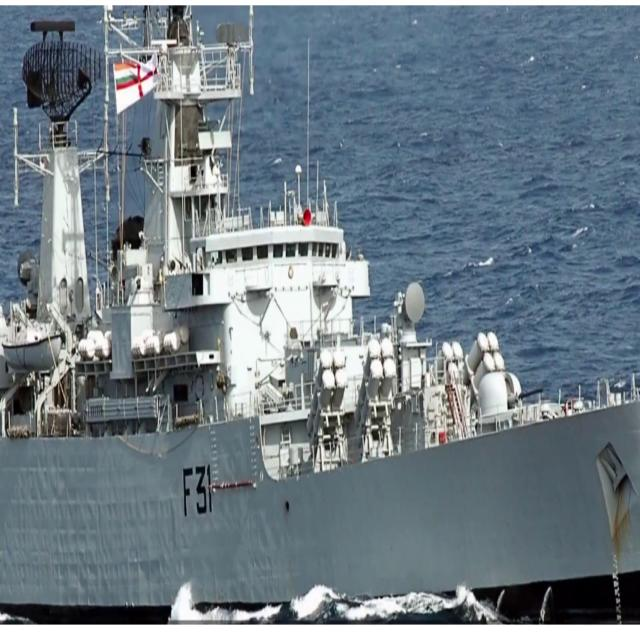OCR: (181, 463, 213, 522)
